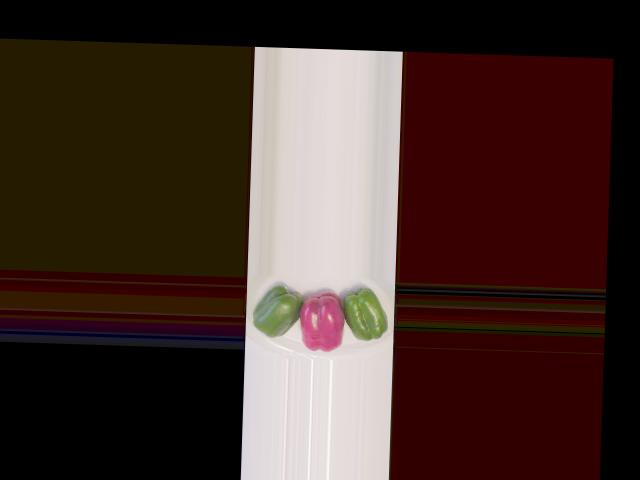bell_pepper: (249, 279, 303, 345)
